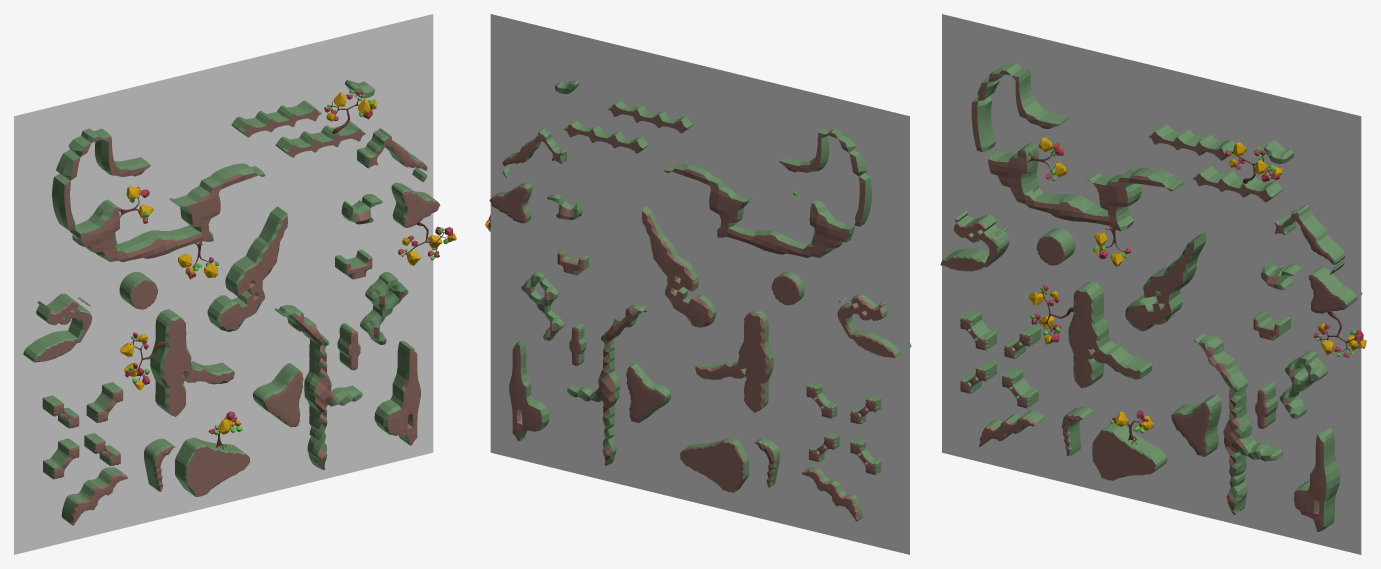
Rendered from JungleLevel.fbx.
3 renders of one model, left to right at view 1: azimuth 30°, elevation 25°; view 2: azimuth 150°, elevation 25°; view 3: azimuth 330°, elevation 25°, orthographic.
Parts seen in each view (by area): view 1: Plane, Cylinder.009, Cube.029, Cube.004, Cylinder.021, Cube.035, Cylinder.020, Cube.031, Cylinder.019, Cube.026, Cylinder.017, Cube.042 (+12 smaller); view 2: Plane, Cylinder.009, Cube.004, Cube.029, Cylinder.021, Cube.035, Cylinder.020, Cube.031, Cylinder.019, Cube.026, Cylinder.002, Cylinder.017 (+9 smaller); view 3: Plane, Cylinder.009, Cube.004, Cylinder.021, Cube.029, Cube.035, Cylinder.020, Cube.031, Cylinder.019, Cylinder.008, Cube.026, Cylinder.002 (+12 smaller).
Boxes of the visible parts, x1,y1,x2,y2 form: Plane: [14, 14, 433, 554]; Cylinder.009: [52, 128, 265, 262]; Cube.029: [207, 206, 287, 331]; Cube.004: [150, 309, 234, 416]; Cylinder.021: [274, 305, 362, 470]; Cube.035: [175, 437, 249, 496]; Cylinder.020: [374, 340, 420, 445]; Cube.031: [23, 293, 92, 362]; Cylinder.019: [253, 363, 303, 427]; Cube.026: [360, 272, 408, 344]; Cylinder.017: [61, 467, 127, 525]; Cube.042: [231, 100, 321, 137]; Plane: [490, 14, 909, 554]; Cylinder.009: [664, 128, 871, 257]; Cube.004: [695, 309, 773, 412]; Cube.029: [642, 206, 716, 327]; Cylinder.021: [567, 305, 649, 465]; Cube.035: [680, 437, 748, 492]; Cylinder.020: [509, 340, 549, 441]; Cube.031: [837, 293, 911, 358]; Cylinder.019: [626, 363, 670, 422]; Cube.026: [521, 272, 564, 340]; Cylinder.002: [489, 182, 532, 223]; Cylinder.017: [802, 467, 862, 521]; Plane: [942, 14, 1361, 554]; Cylinder.009: [971, 62, 1183, 231]; Cube.004: [1068, 281, 1152, 388]; Cylinder.021: [1194, 333, 1282, 514]; Cube.029: [1125, 232, 1206, 331]; Cube.035: [1092, 423, 1167, 480]; Cylinder.020: [1293, 427, 1339, 531]; Cube.031: [940, 210, 1009, 271]; Cylinder.019: [1171, 395, 1221, 456]; Cylinder.008: [1274, 204, 1345, 274]; Cube.026: [1279, 350, 1327, 418]; Cylinder.002: [1309, 266, 1362, 313].
Bounding box in the file's own units: 7745 × 7500 × 787.
